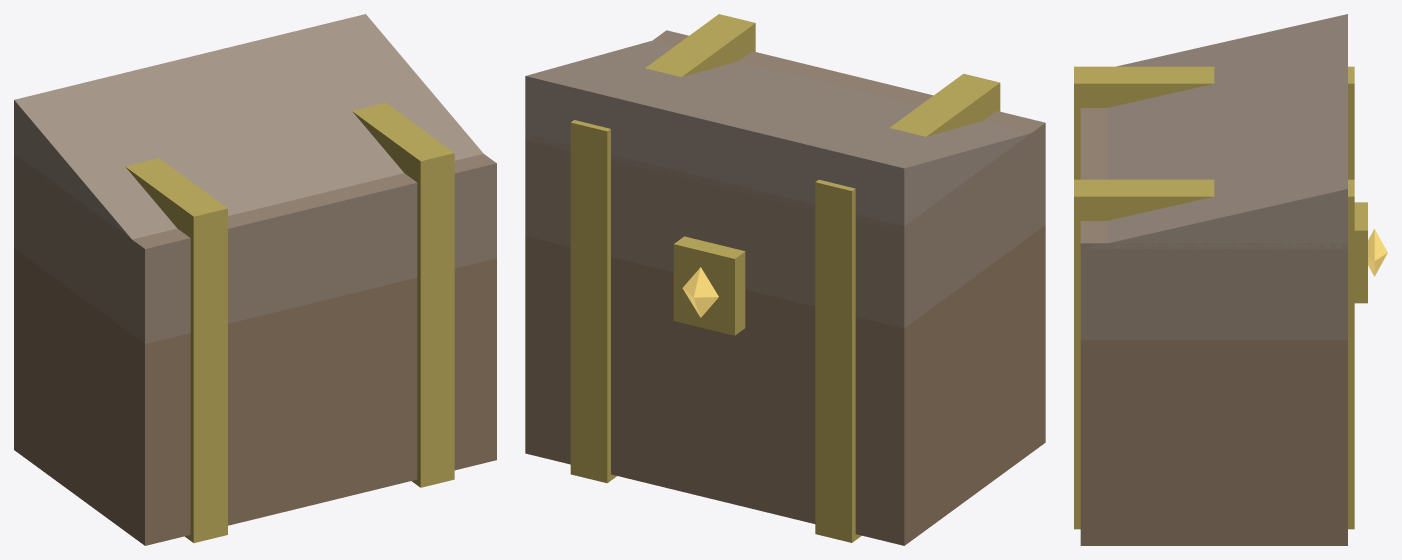
The model's file is chest.glb.
3 renders of one model, left to right at view 1: azimuth 30°, elevation 25°; view 2: azimuth 150°, elevation 25°; view 3: azimuth 270°, elevation 25°, orthographic. The views are drawn at different scales.
Visible parts, largest first — view 1: mesh_lid, mesh_base; view 2: mesh_lid, mesh_base; view 3: mesh_lid, mesh_base.
Part boxes in pixels (<box>): mesh_lid: <box>14,14,496,343</box>; mesh_base: <box>14,248,496,545</box>; mesh_lid: <box>525,14,1045,335</box>; mesh_base: <box>525,225,1045,545</box>; mesh_lid: <box>1074,14,1387,340</box>; mesh_base: <box>1074,311,1354,545</box>.
Bounding box in the file's own units: 0.62 × 0.6 × 0.47.
